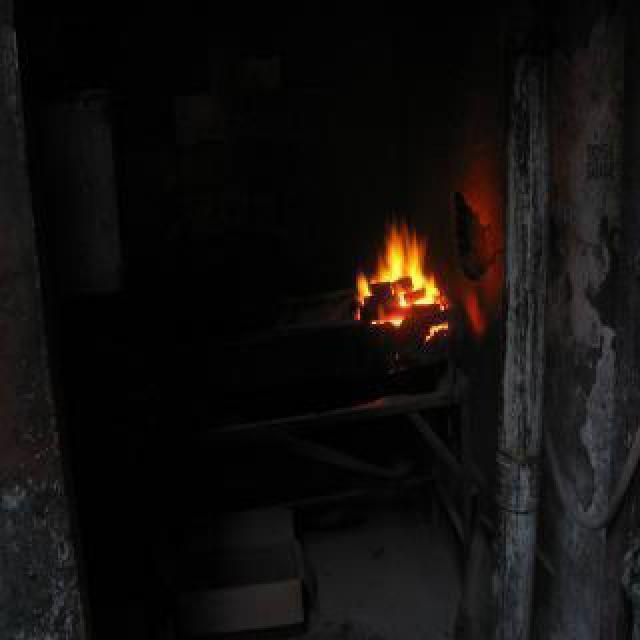Fire: (350, 218, 442, 340)
